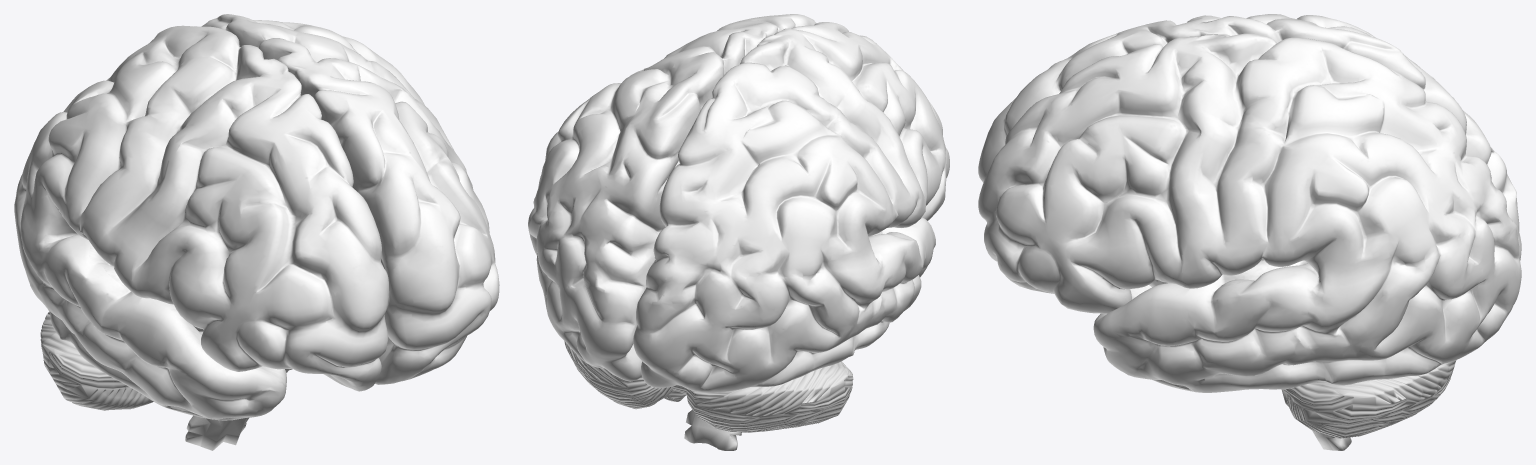
File: Brain2.gltf
3 views of the same model, side by side, from view 1: azimuth 30°, elevation 25°; view 2: azimuth 150°, elevation 25°; view 3: azimuth 270°, elevation 25° (orthographic). The views are drawn at different scales.
Visible parts, largest first — view 1: Brain_Part_06, Brain_Part_04, Brain_Part_02, Brain_Part_05; view 2: Brain_Part_06, Brain_Part_04, Brain_Part_02, Brain_Part_05; view 3: Brain_Part_04, Brain_Part_06, Brain_Part_02, Brain_Part_05.
Boxes of the visible parts, x1,y1,x2,y2 form: Brain_Part_06: (14, 25, 388, 420); Brain_Part_04: (201, 14, 499, 384); Brain_Part_02: (40, 312, 292, 410); Brain_Part_05: (185, 326, 289, 450); Brain_Part_06: (633, 22, 949, 392); Brain_Part_04: (528, 14, 816, 381); Brain_Part_02: (564, 341, 853, 432); Brain_Part_05: (684, 409, 741, 450); Brain_Part_04: (978, 33, 1521, 392); Brain_Part_06: (978, 14, 1521, 260); Brain_Part_02: (1283, 360, 1456, 438); Brain_Part_05: (1149, 259, 1351, 450).
Size of the model in its own units: 0.3796 by 0.4021 by 0.4729.
3 materials, 2 textured.
